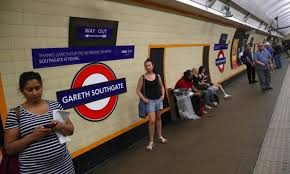London Underground: (57, 61, 127, 117)
